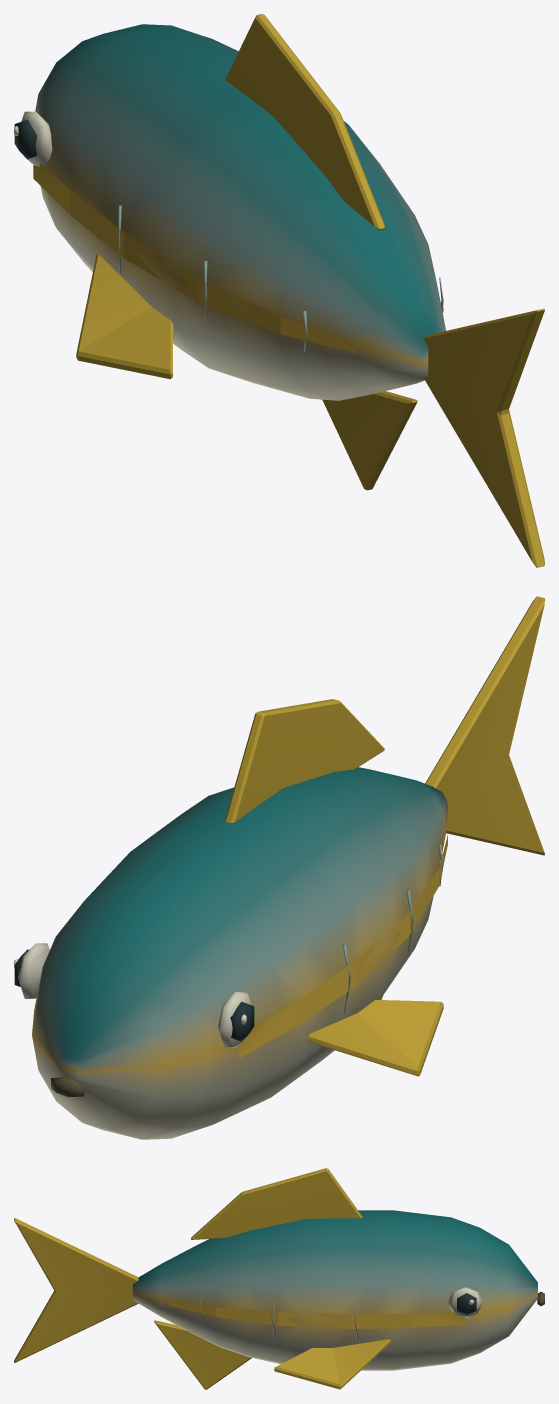
Rendered from fish_yellowtail.glb.
3 renders of one model, top to bottom at view 1: azimuth 30°, elevation 25°; view 2: azimuth 150°, elevation 25°; view 3: azimuth 270°, elevation 25°, orthographic. The views are drawn at different scales.
Bounding box in the file's own units: 0.2277 × 0.2514 × 0.5493.
